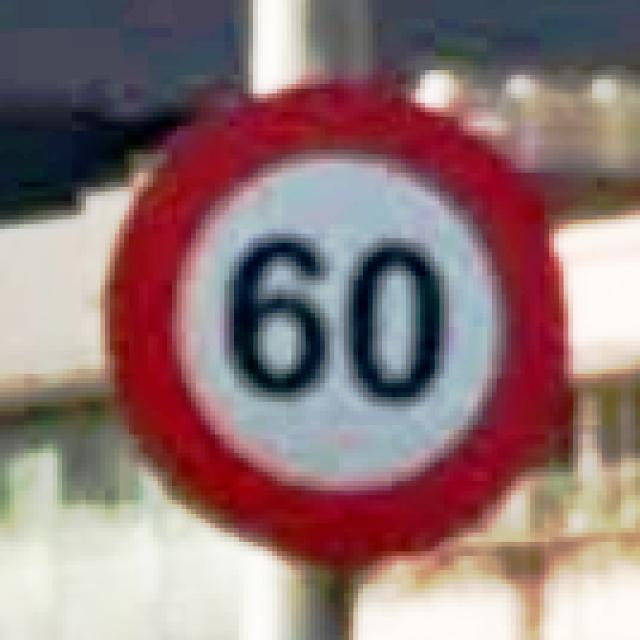max60: (96, 70, 573, 570)
